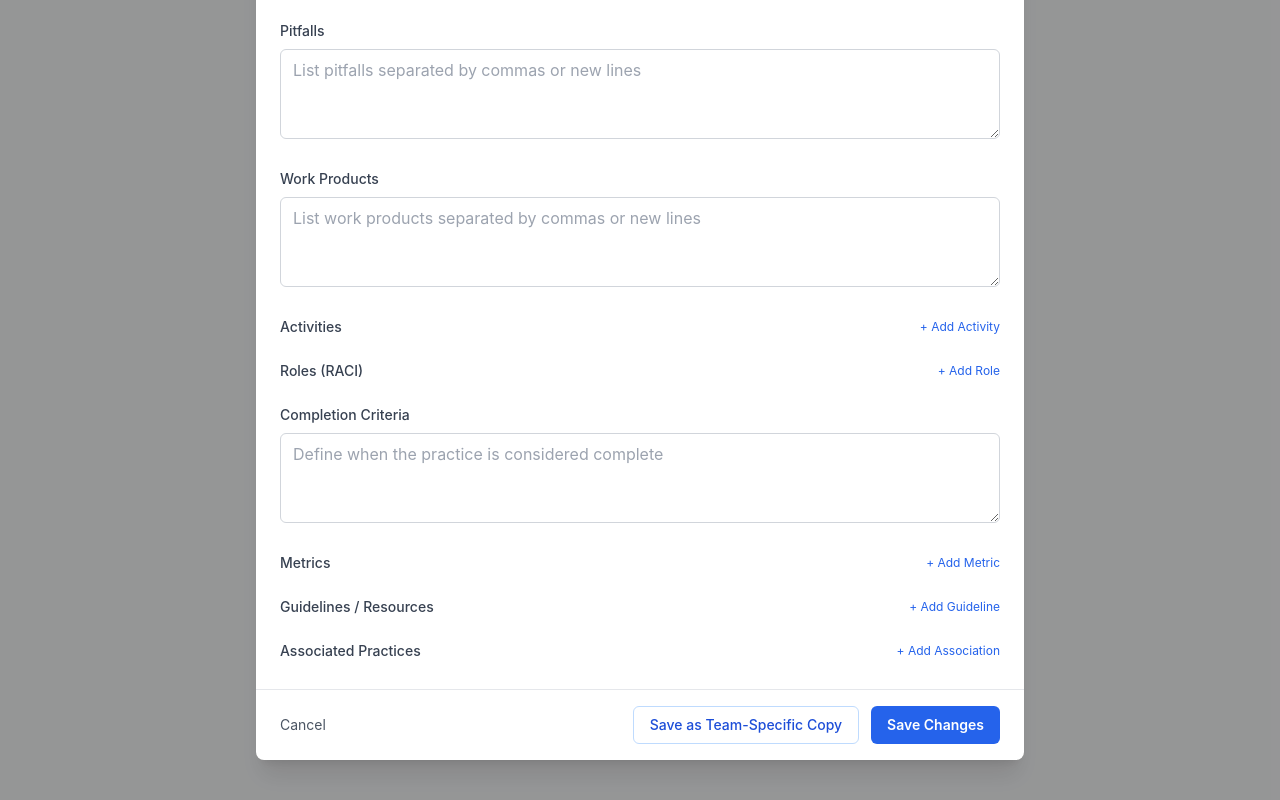
it: PracticeEditForm › shows global practice warning when multiple teams are affected
(page scrolled)
What coordinates should you click on to do the following:
click the button "Save Changes"
I would click on:
 (936, 725)
Its box is [871,706,1000,744].
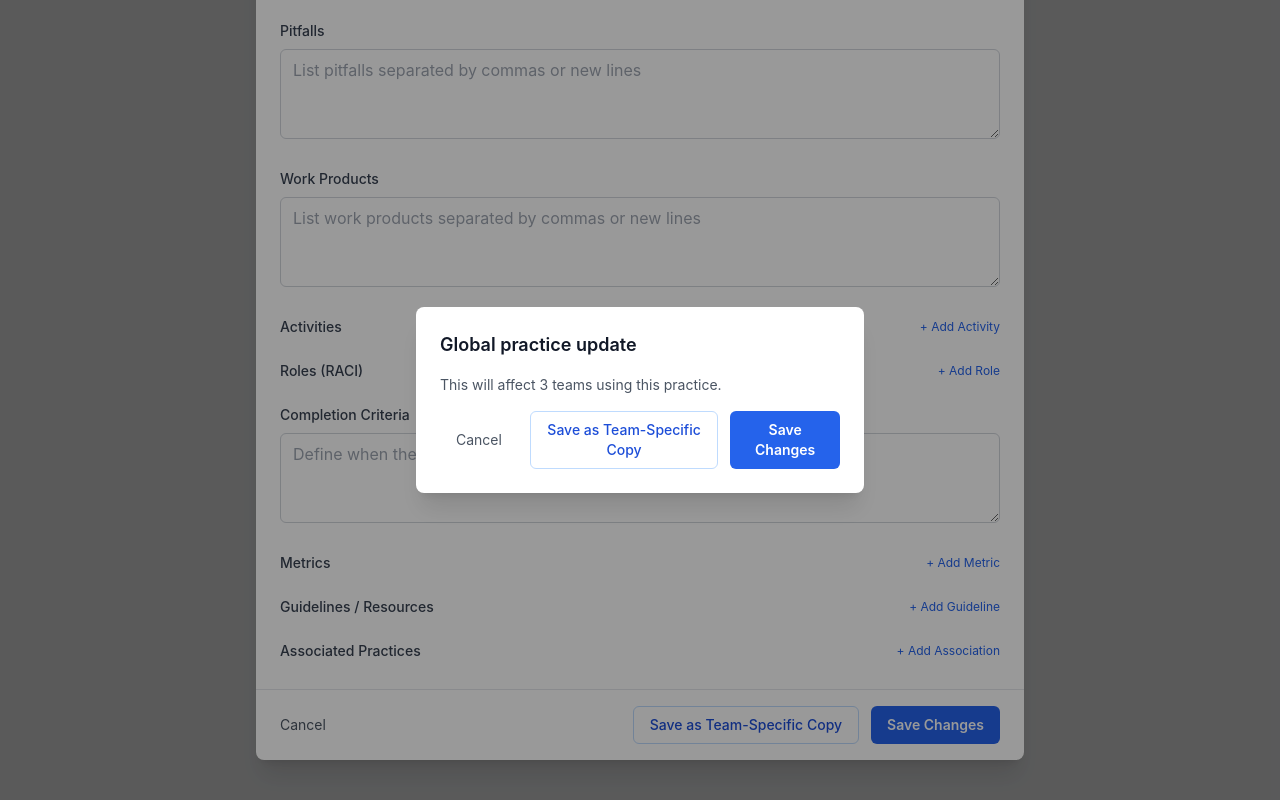
Expected: the text "This will affect 3 teams using this practice." is shown, [440,376,722,393]
